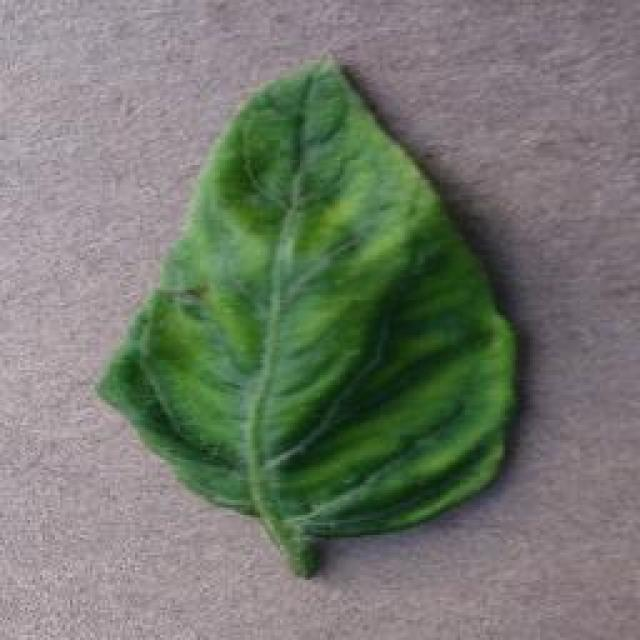Tomato yellow virus leaf: (88, 58, 520, 530)
